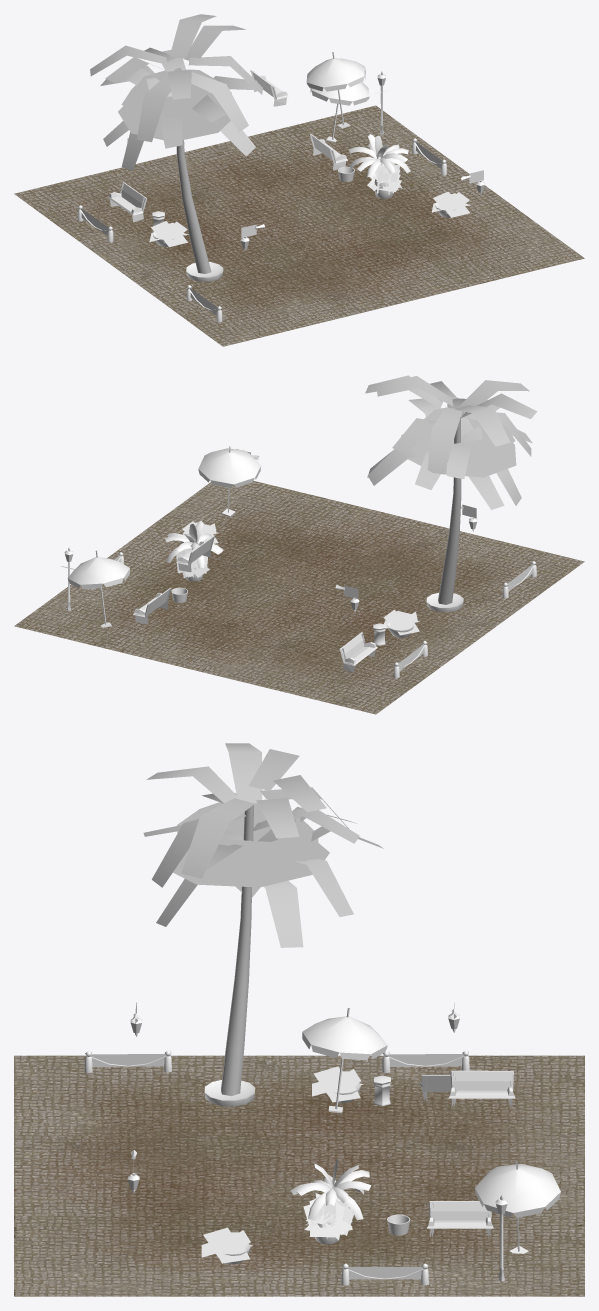
File: propsonly_1.gltf
3 renders of one model, top to bottom at view 1: azimuth 30°, elevation 25°; view 2: azimuth 150°, elevation 25°; view 3: azimuth 270°, elevation 25°, orthographic. The views are drawn at different scales.
Parts seen in each view (by area): view 1: ground.011, prop_tree1.003, prop_sunshade1.005, prop_treepot_tree1.002, prop_sunshade1.004, prop_bench1.008, prop_pot_flower1.004, prop_pot_flower1.005, prop_treepot_bush1.002, prop_bench1.007, prop_bench1.009, prop_pot1.008 (+1 smaller); view 2: ground.011, prop_tree1.003, prop_sunshade1.005, prop_sunshade1.004, prop_treepot_tree1.002, prop_bench1.008, prop_pot_flower1.004, prop_bench1.009, prop_bench1.007, prop_pot1.008; view 3: ground.011, prop_tree1.003, prop_sunshade1.004, prop_sunshade1.005, prop_treepot_tree1.002, prop_bench1.009, prop_bench1.007, prop_treepot_bush1.002, prop_pot_flower1.005, prop_chain_fence1.006, prop_chain_fence1.005, prop_chain_fence1.007 (+2 smaller).
Part boxes in pixels (bbox=[...]): ground.011: bbox=[14, 105, 584, 346]; prop_tree1.003: bbox=[90, 14, 262, 273]; prop_sunshade1.005: bbox=[306, 52, 365, 128]; prop_treepot_tree1.002: bbox=[349, 134, 410, 177]; prop_sunshade1.004: bbox=[310, 82, 369, 142]; prop_bench1.008: bbox=[108, 181, 147, 222]; prop_pot_flower1.004: bbox=[149, 221, 188, 247]; prop_pot_flower1.005: bbox=[431, 191, 470, 217]; prop_treepot_bush1.002: bbox=[367, 162, 402, 194]; prop_bench1.007: bbox=[309, 133, 347, 170]; prop_bench1.009: bbox=[250, 70, 288, 106]; prop_pot1.008: bbox=[186, 262, 223, 281]; ground.011: bbox=[14, 480, 584, 714]; prop_tree1.003: bbox=[365, 375, 537, 604]; prop_sunshade1.005: bbox=[198, 446, 261, 516]; prop_sunshade1.004: bbox=[67, 550, 129, 627]; prop_treepot_tree1.002: bbox=[165, 521, 223, 568]; prop_bench1.008: bbox=[339, 632, 377, 672]; prop_pot_flower1.004: bbox=[383, 609, 419, 635]; prop_bench1.009: bbox=[176, 536, 214, 572]; prop_bench1.007: bbox=[133, 587, 171, 624]; prop_pot1.008: bbox=[426, 593, 463, 612]; ground.011: bbox=[14, 1055, 584, 1296]; prop_tree1.003: bbox=[143, 743, 383, 1096]; prop_sunshade1.004: bbox=[475, 1161, 560, 1253]; prop_sunshade1.005: bbox=[302, 1008, 387, 1113]; prop_treepot_tree1.002: bbox=[290, 1159, 371, 1220]; prop_bench1.009: bbox=[448, 1070, 515, 1107]; prop_bench1.007: bbox=[426, 1201, 493, 1237]; prop_treepot_bush1.002: bbox=[303, 1193, 353, 1240]; prop_pot_flower1.005: bbox=[201, 1227, 253, 1263]; prop_chain_fence1.006: bbox=[341, 1263, 428, 1285]; prop_chain_fence1.005: bbox=[84, 1050, 171, 1073]; prop_chain_fence1.007: bbox=[382, 1050, 469, 1073].
Size of what is drawn, in the model's own units: 3.59 by 2.17 by 3.3.
